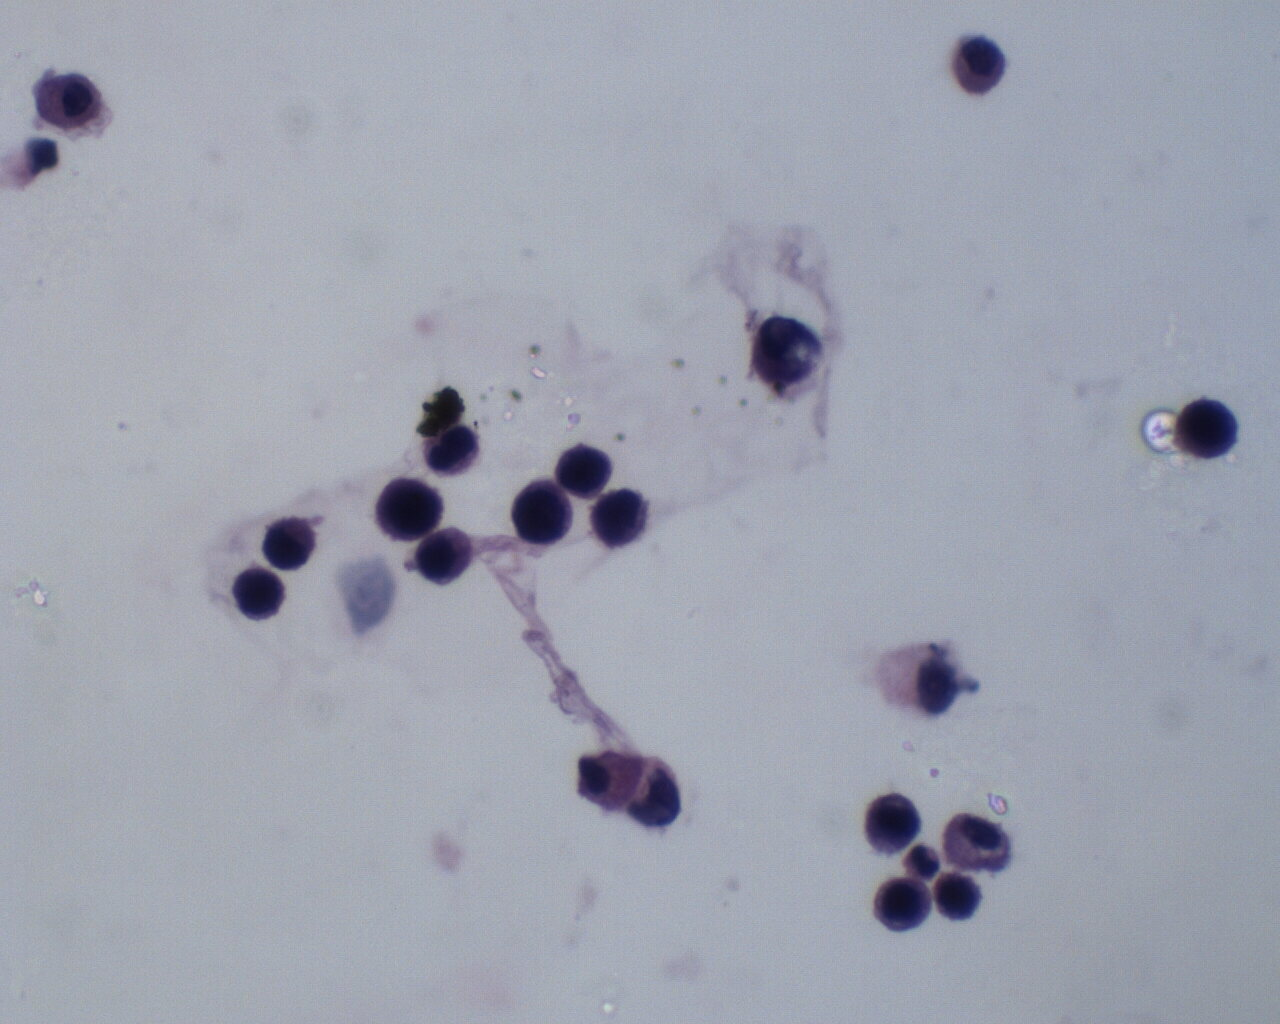ab: (374, 478, 445, 545), (505, 478, 574, 546), (1177, 394, 1239, 462), (587, 487, 652, 552), (859, 793, 923, 856), (871, 877, 936, 936), (413, 527, 474, 587), (553, 442, 618, 498), (422, 424, 482, 479), (259, 516, 317, 572), (231, 567, 287, 623)
meso: (32, 67, 107, 133), (946, 36, 1013, 99)
